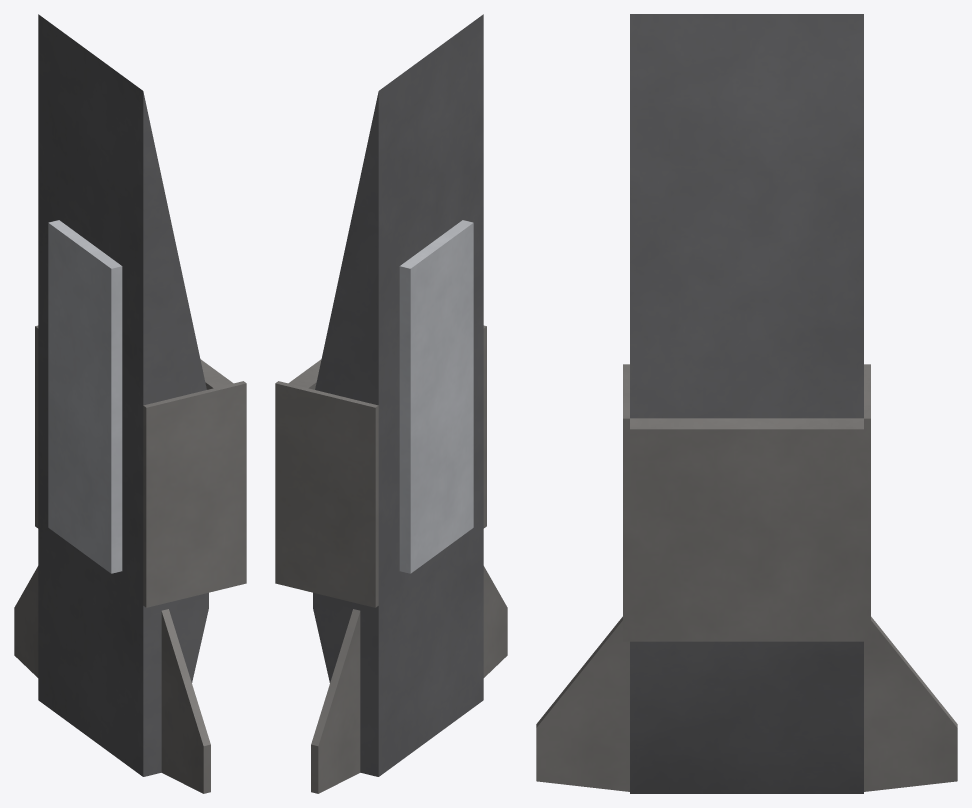
The model's file is jet05_scramjet.glb.
3 renders of one model, left to right at view 1: azimuth 30°, elevation 25°; view 2: azimuth 150°, elevation 25°; view 3: azimuth 270°, elevation 25°, orthographic. The views are drawn at different scales.
Parts seen in each view (by area): view 1: body, mount_pad, sidewalls, tail_fins, cowl; view 2: body, mount_pad, sidewalls, tail_fins, cowl; view 3: body, cowl, tail_fins, sidewalls.
Boxes of the visible parts, box(x1,y1,x2,y2) form: body: box(38, 14, 208, 776); mount_pad: box(48, 220, 122, 573); sidewalls: box(35, 325, 246, 607); tail_fins: box(14, 566, 210, 793); cowl: box(200, 359, 233, 389); body: box(313, 14, 483, 776); mount_pad: box(399, 220, 473, 573); sidewalls: box(275, 325, 486, 607); tail_fins: box(311, 566, 507, 793); cowl: box(288, 359, 321, 389); body: box(630, 14, 863, 793); cowl: box(630, 418, 863, 641); tail_fins: box(536, 616, 957, 791); sidewalls: box(623, 364, 870, 641).
Size of the model in its own units: 0.61 by 3.6 by 1.8.
3 materials, 3 textured.
